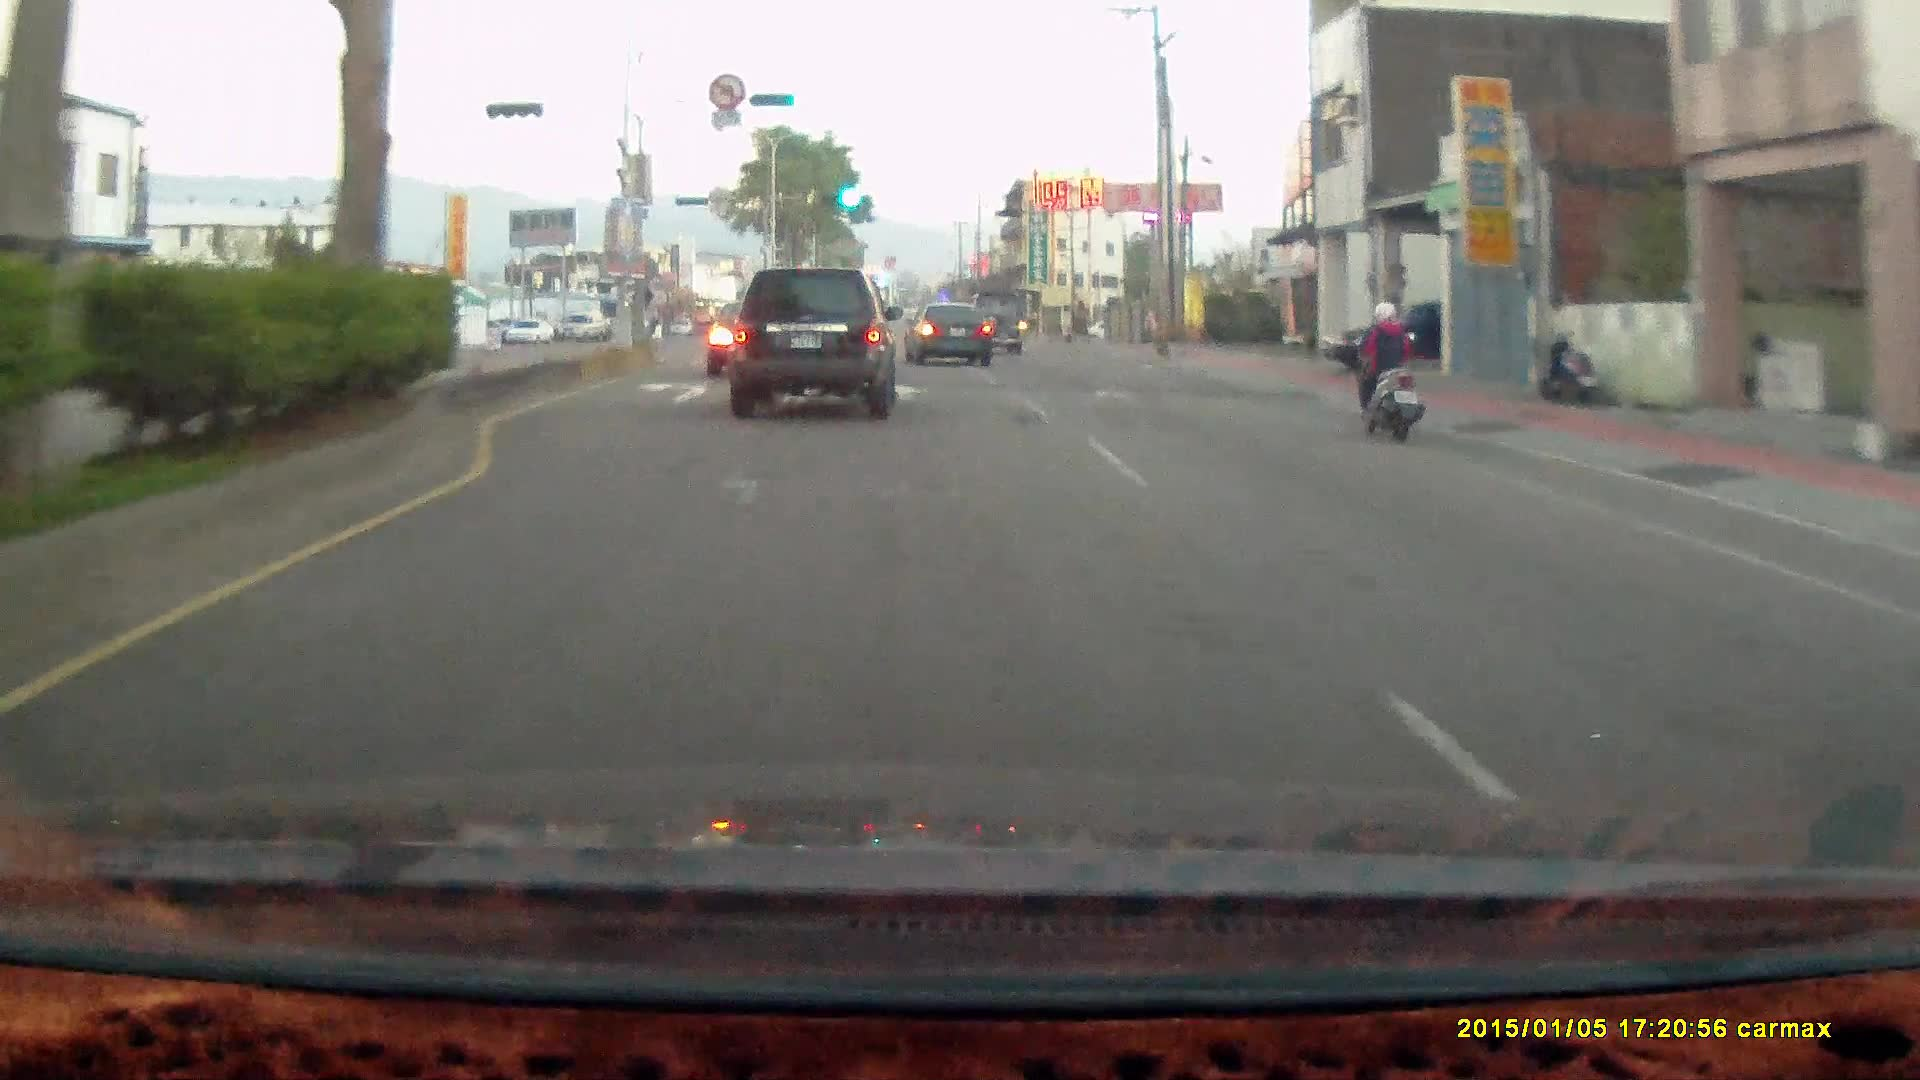rider: (1338, 290, 1437, 450), (1350, 298, 1425, 442)
vehicle: (721, 260, 897, 421), (725, 266, 900, 416), (1318, 297, 1510, 366), (1318, 297, 1453, 367), (707, 299, 810, 383), (704, 298, 808, 378), (907, 301, 997, 367), (906, 301, 993, 365), (962, 290, 1025, 356), (966, 291, 1026, 358), (556, 311, 605, 341), (503, 316, 554, 344)
